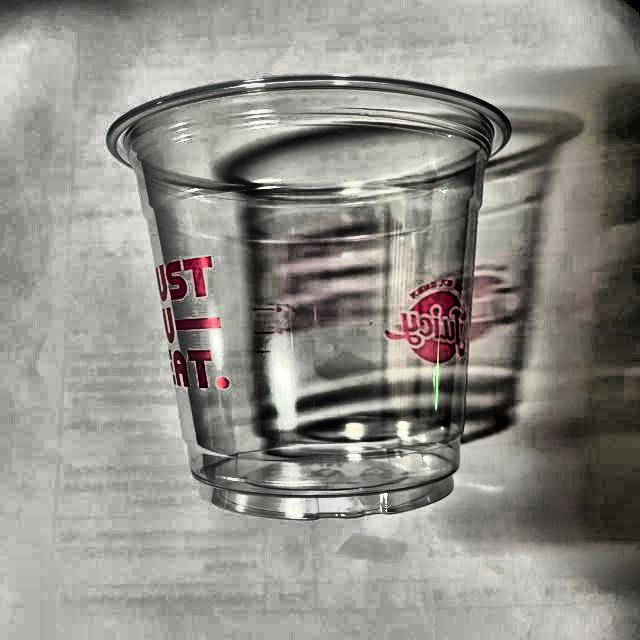plastic cup: (102, 68, 519, 522)
